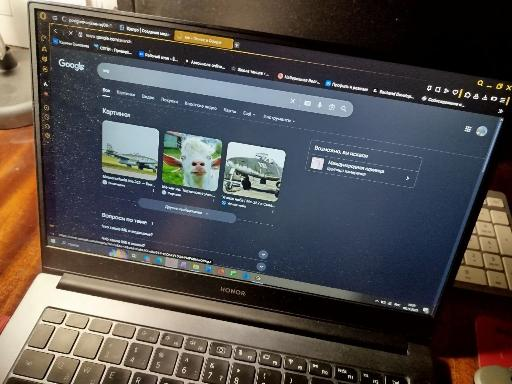google: (49, 23, 505, 307)
